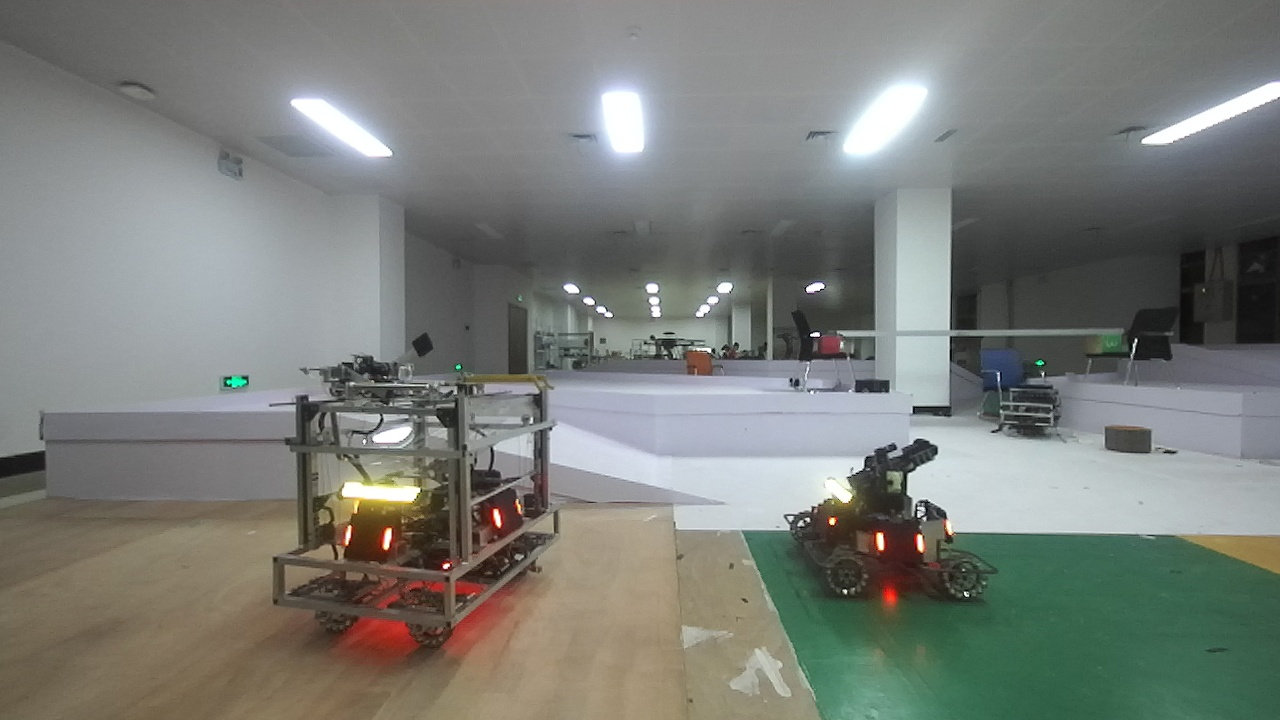car: (275, 362, 560, 647), (782, 439, 966, 623)
